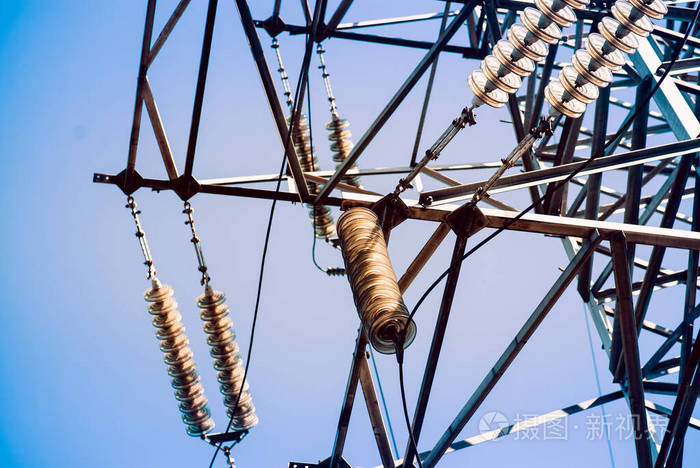insulator: (547, 1, 670, 120), (469, 1, 583, 109), (338, 208, 413, 355), (142, 284, 213, 433), (198, 291, 259, 430), (285, 111, 335, 241), (328, 120, 365, 187)
